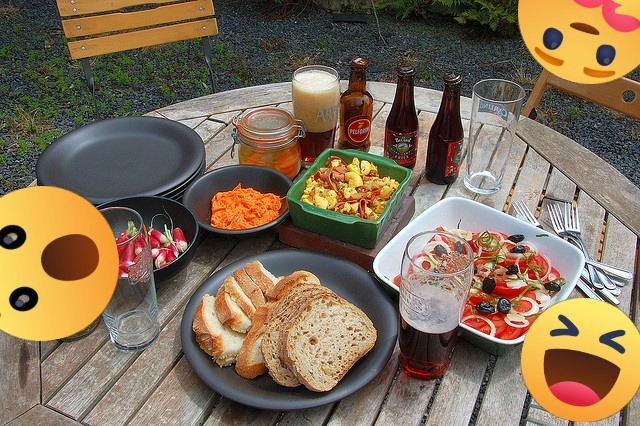care: (518, 0, 640, 84)
haha: (521, 298, 640, 422)
wow: (0, 186, 119, 341)
